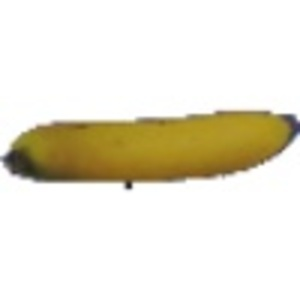banana: (2, 100, 298, 188)
